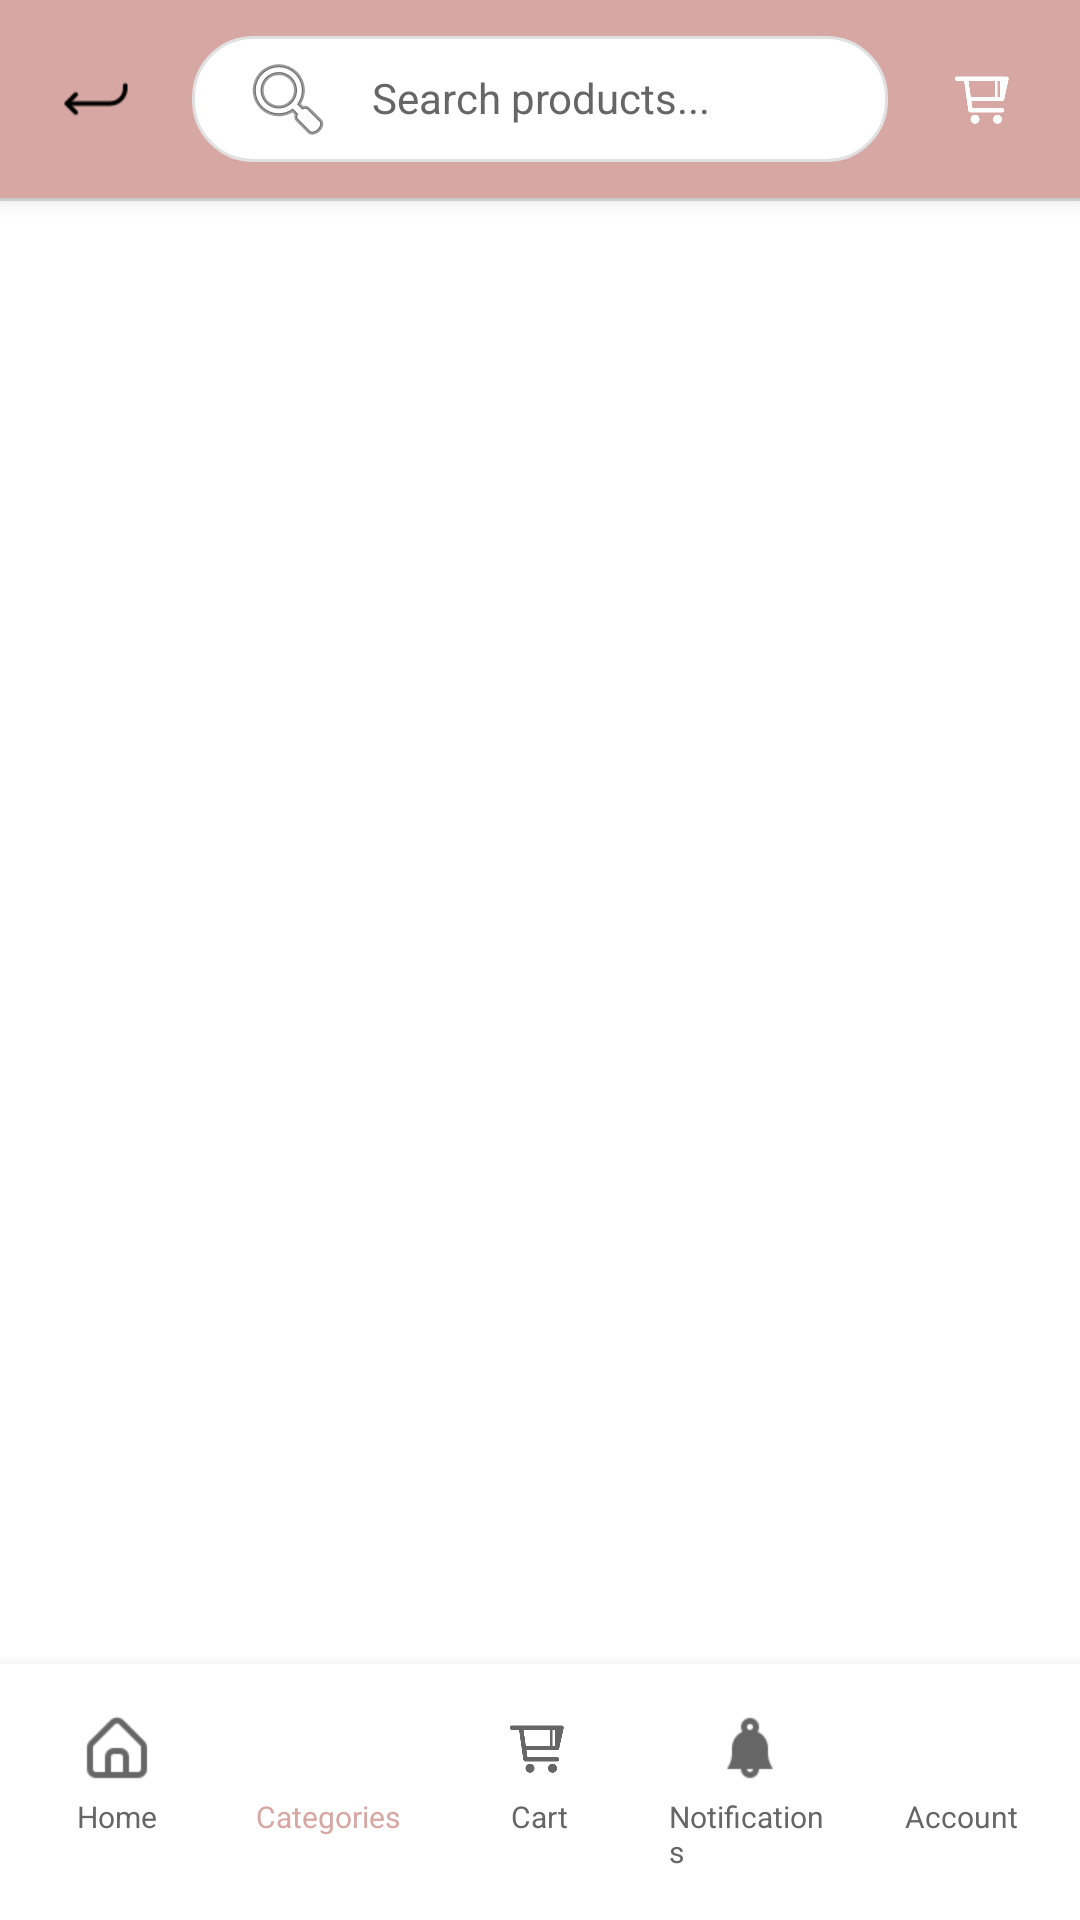

Where icons sit on this 1080px×1920px app screen, as (x1, y1, x2, y2):
Back: (64, 82, 128, 116)
Shopping Cart: (955, 76, 1009, 124)
